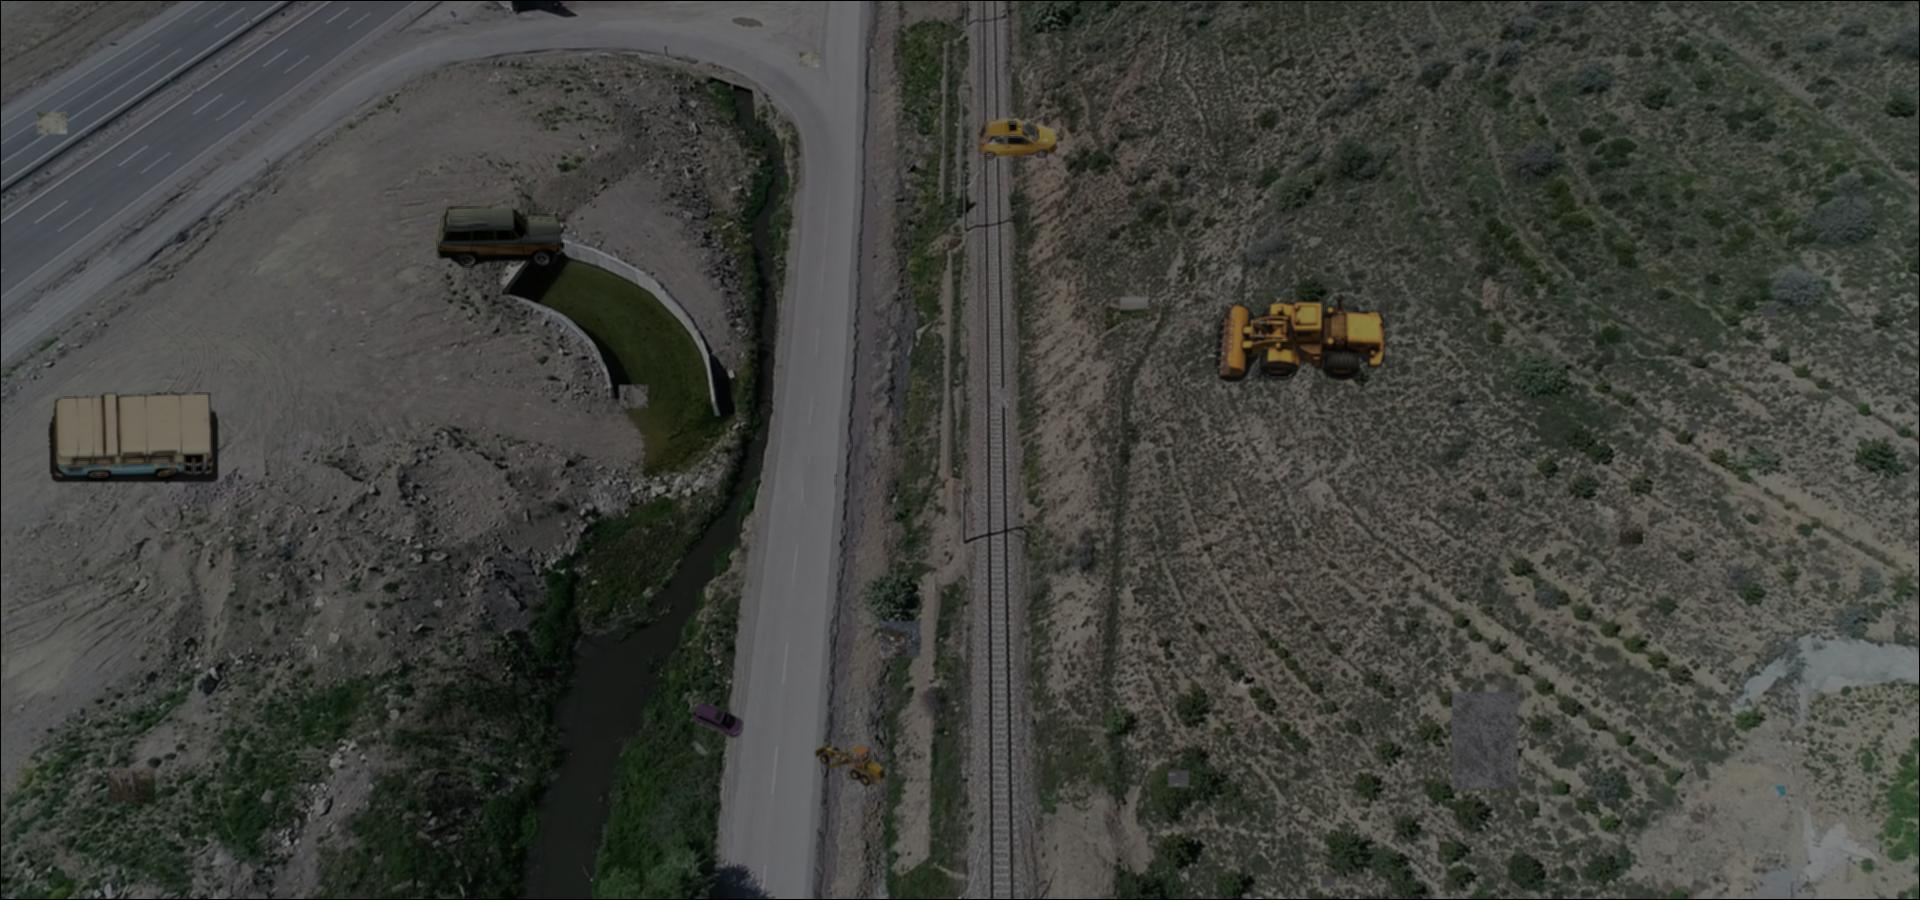arac: (1210, 294, 1393, 393), (44, 392, 218, 482), (437, 207, 564, 267), (813, 741, 890, 789), (980, 118, 1059, 160), (692, 700, 744, 740)
